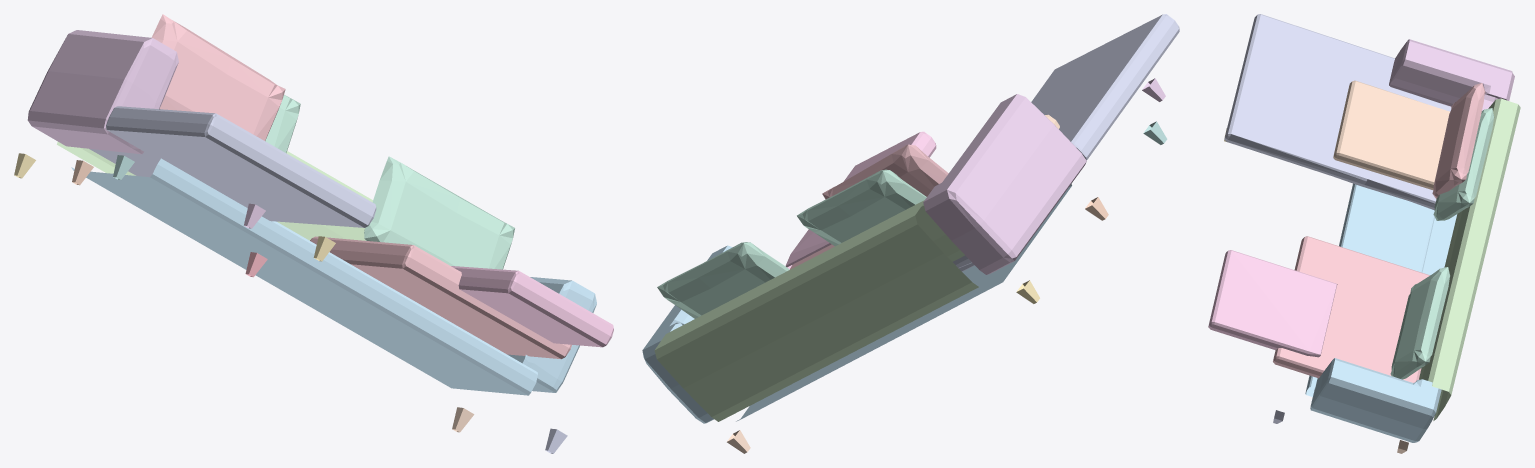
The model's file is view_assembly_-1_colored.glb.
3 views of the same model, side by side, from view 1: azimuth 30°, elevation 25°; view 2: azimuth 150°, elevation 25°; view 3: azimuth 270°, elevation 25° (orthographic). The views are drawn at different scales.
Visible parts, largest first — view 1: world; view 2: world; view 3: world.
Part boxes in pixels (x1,y1,x2,y2): world: [14, 14, 613, 453]; world: [642, 14, 1179, 453]; world: [1208, 14, 1520, 453].
Size of the model in its own units: 0.9511 by 0.9001 by 0.7842.
